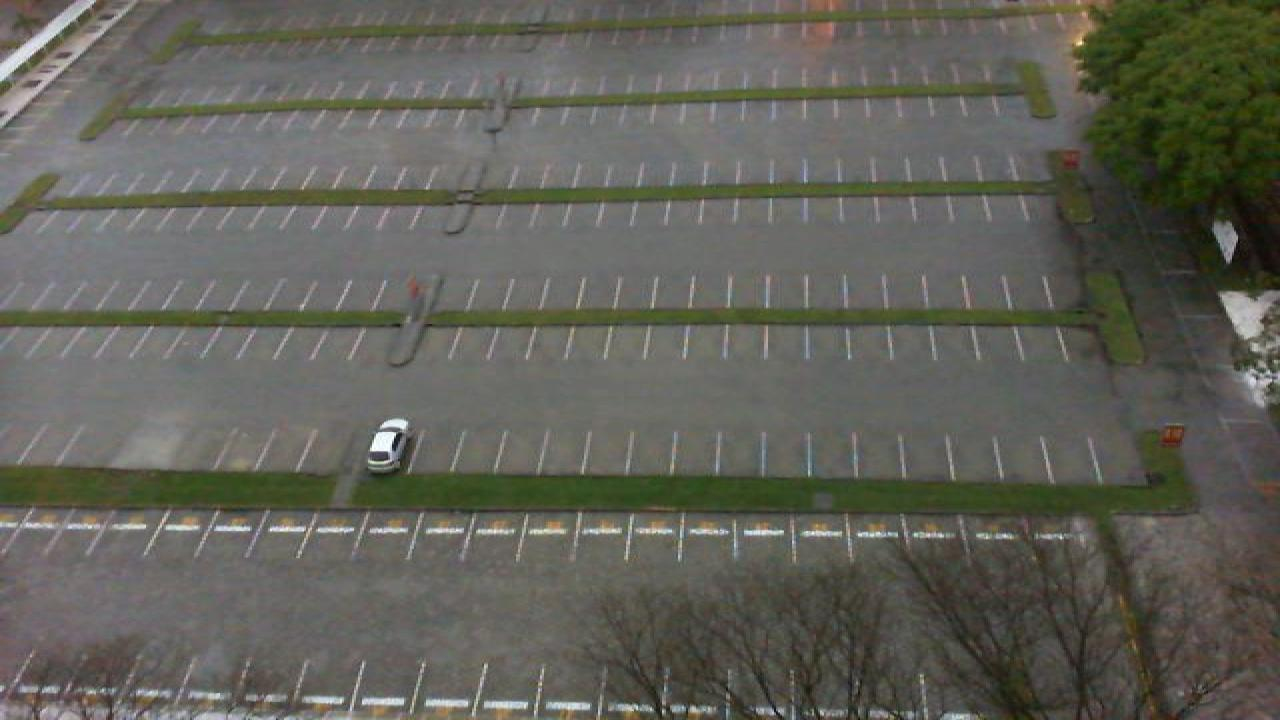Car: (364, 418, 412, 474)
